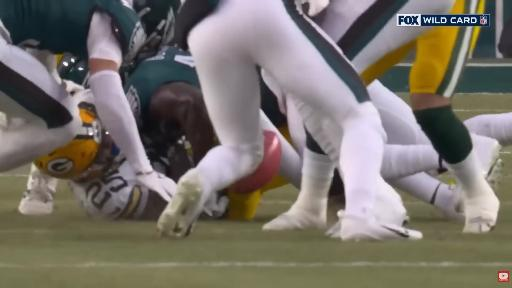Helmet: (35, 103, 103, 179), (134, 0, 181, 53), (58, 55, 89, 88), (58, 55, 89, 87)
Jersey: (0, 0, 145, 60), (125, 47, 200, 130), (125, 47, 199, 129), (69, 154, 156, 219), (69, 159, 155, 219), (69, 161, 148, 219), (58, 54, 89, 88)
Player: (158, 0, 421, 239), (0, 0, 165, 193), (320, 0, 482, 99), (126, 47, 214, 178)
